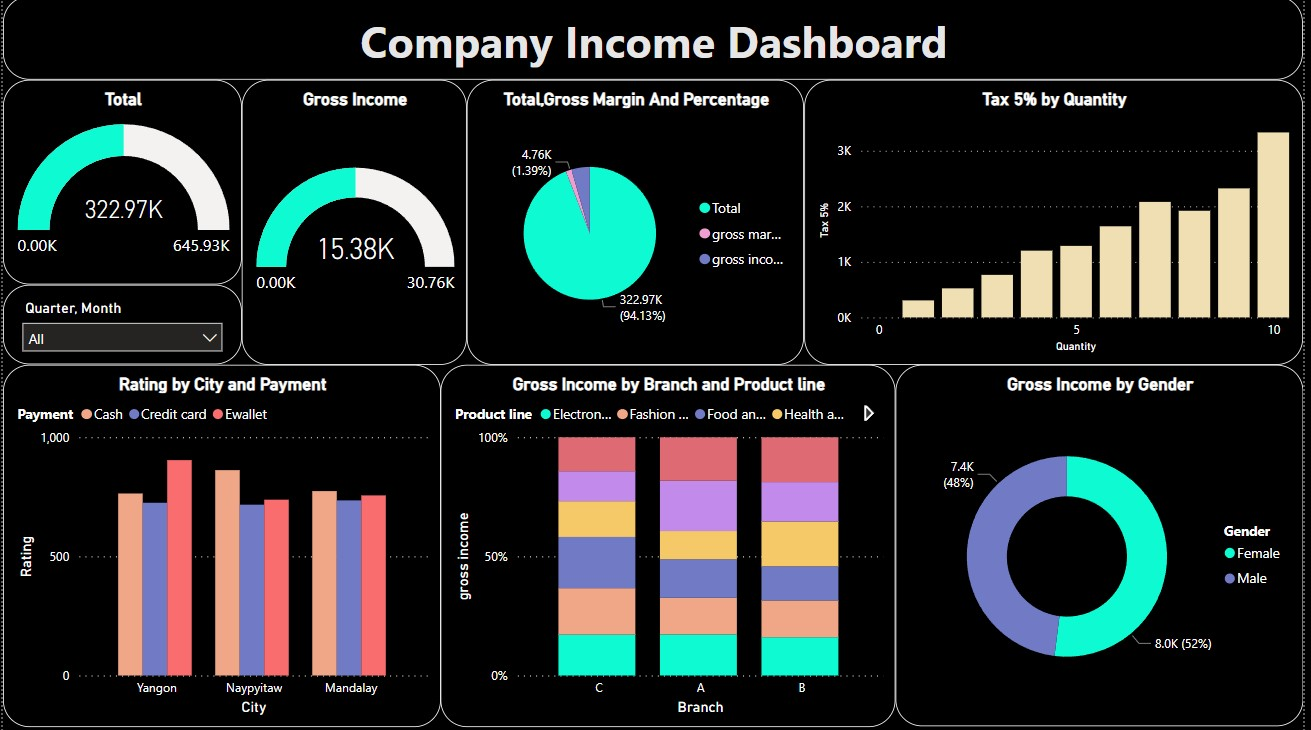

This screenshot's page, from the dashboard's own definition file:
{"tool":"powerbi","page":{"name":"Page 1","canvas":[1280,725],"ordinal":0},"visuals":[{"type":"donutChart","title":"Gross Income by Gender","fields":{"Category":["supermarket_sales - Sheet1.Gender"],"Y":["Sum(supermarket_sales - Sheet1.gross income)"]},"box":[878.9,363.1,401.3,355.7],"z":0},{"type":"gauge","fields":{"Y":["Sum(supermarket_sales - Sheet1.Total)"]},"box":[0,82.5,235.1,201.9],"z":1000},{"type":"gauge","title":"Gross Income","fields":{"Y":["Sum(supermarket_sales - Sheet1.gross income)"]},"box":[235.1,82.5,221.6,280.6],"z":2000},{"type":"lineClusteredColumnComboChart","fields":{"Category":["supermarket_sales - Sheet1.City"],"Y":["Sum(supermarket_sales - Sheet1.Rating)"],"Series":["supermarket_sales - Sheet1.Payment"]},"box":[0,363.1,430.8,357],"z":3000},{"type":"lineClusteredColumnComboChart","fields":{"Y":["Sum(supermarket_sales - Sheet1.Tax 5%)"],"Category":["supermarket_sales - Sheet1.Quantity"]},"box":[789,82.5,491.1,280.6],"z":4000},{"type":"hundredPercentStackedColumnChart","title":"Gross Income by Branch and Product line","fields":{"Category":["supermarket_sales - Sheet1.Branch"],"Y":["Sum(supermarket_sales - Sheet1.gross income)"],"Series":["supermarket_sales - Sheet1.Product line"]},"box":[430.8,363.1,448,357],"z":5000},{"type":"pieChart","title":"Total,Gross Margin And Percentage","fields":{"Y":["Sum(supermarket_sales - Sheet1.Total)","Sum(supermarket_sales - Sheet1.gross margin percentage)","Sum(supermarket_sales - Sheet1.gross income)"]},"box":[456.7,82.5,332.3,280.6],"z":6000},{"type":"slicer","fields":{"Values":["supermarket_sales - Sheet1.Date.Variation.Date Hierarchy.Quarter","supermarket_sales - Sheet1.Date.Variation.Date Hierarchy.Month"]},"box":[0,284.3,235.1,78.8],"z":8000},{"type":"textbox","box":[0,0,1280.1,82.5],"z":9000}]}

Visuals, with their boxes in screenshot pixels (x1, y1, x2, y2), scaled from the page's 1280x725 canvas onto the 1311x730 screenshot:
"Gross Income by Gender" donutChart: (900, 366, 1310, 724)
gauge - Sum(supermarket_sales - Sheet1.Total): (0, 83, 241, 286)
"Gross Income" gauge: (241, 83, 468, 366)
lineClusteredColumnComboChart - supermarket_sales - Sheet1.City x Sum(supermarket_sales - Sheet1.Rating): (0, 366, 441, 725)
lineClusteredColumnComboChart - Sum(supermarket_sales - Sheet1.Tax 5%) x supermarket_sales - Sheet1.Quantity: (808, 83, 1310, 366)
"Gross Income by Branch and Product line" hundredPercentStackedColumnChart: (441, 366, 900, 725)
"Total,Gross Margin And Percentage" pieChart: (468, 83, 808, 366)
slicer - supermarket_sales - Sheet1.Date.Variation.Date Hierarchy.Quarter x supermarket_sales - Sheet1.Date.Variation.Date Hierarchy.Month: (0, 286, 241, 366)
textbox: (0, 0, 1310, 83)
